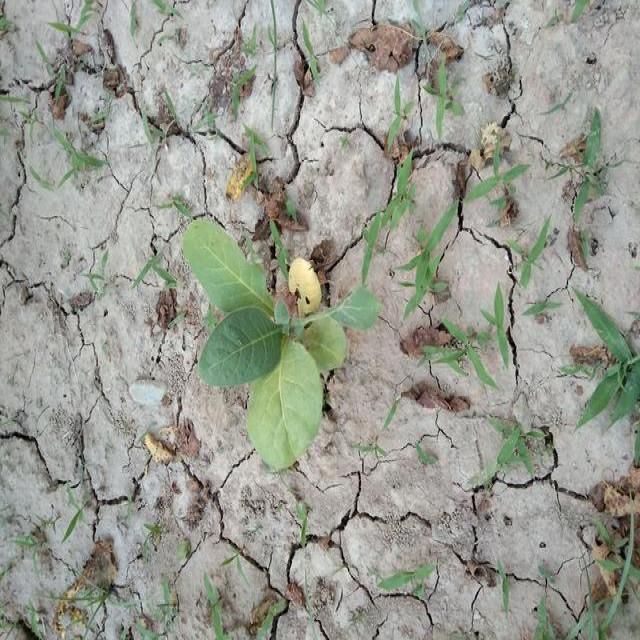crop: (187, 223, 375, 464)
